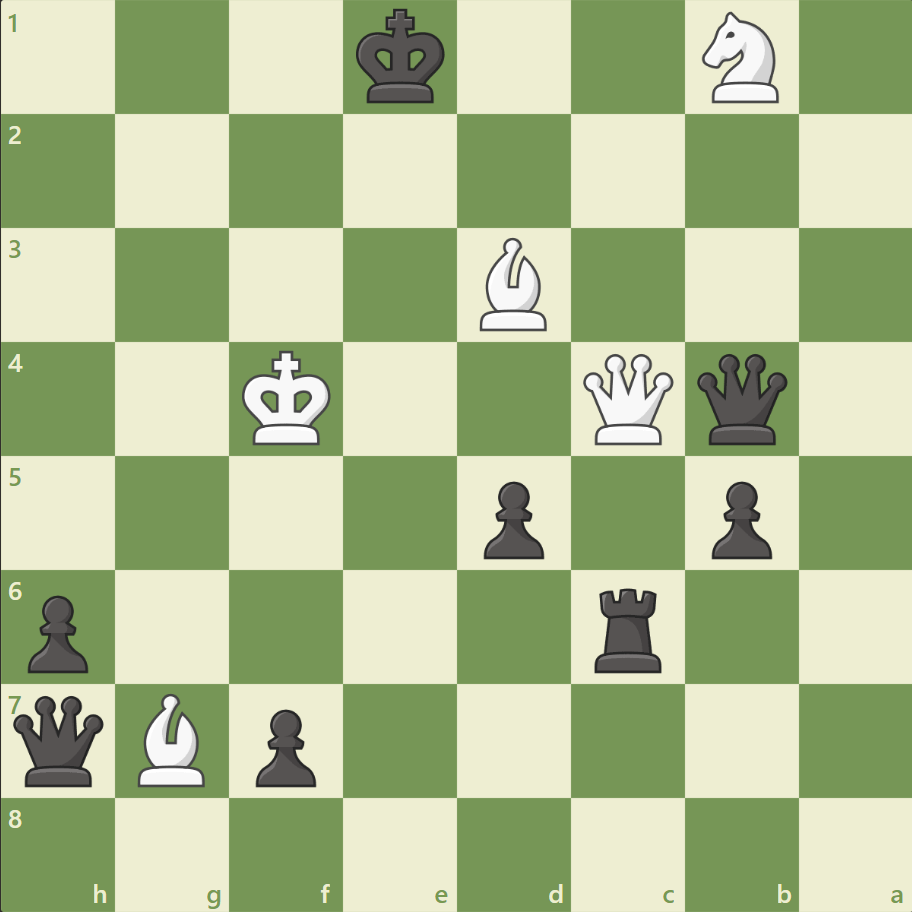B: (131, 687, 215, 790), (471, 233, 555, 336)
K: (238, 344, 338, 452)
N: (692, 7, 789, 110)
Q: (578, 349, 677, 449)
k: (351, 4, 451, 112)
p: (247, 700, 322, 791), (20, 586, 95, 677), (701, 473, 776, 564), (474, 473, 549, 564)
q: (691, 349, 790, 449), (10, 690, 109, 789)
r: (587, 579, 670, 676)
